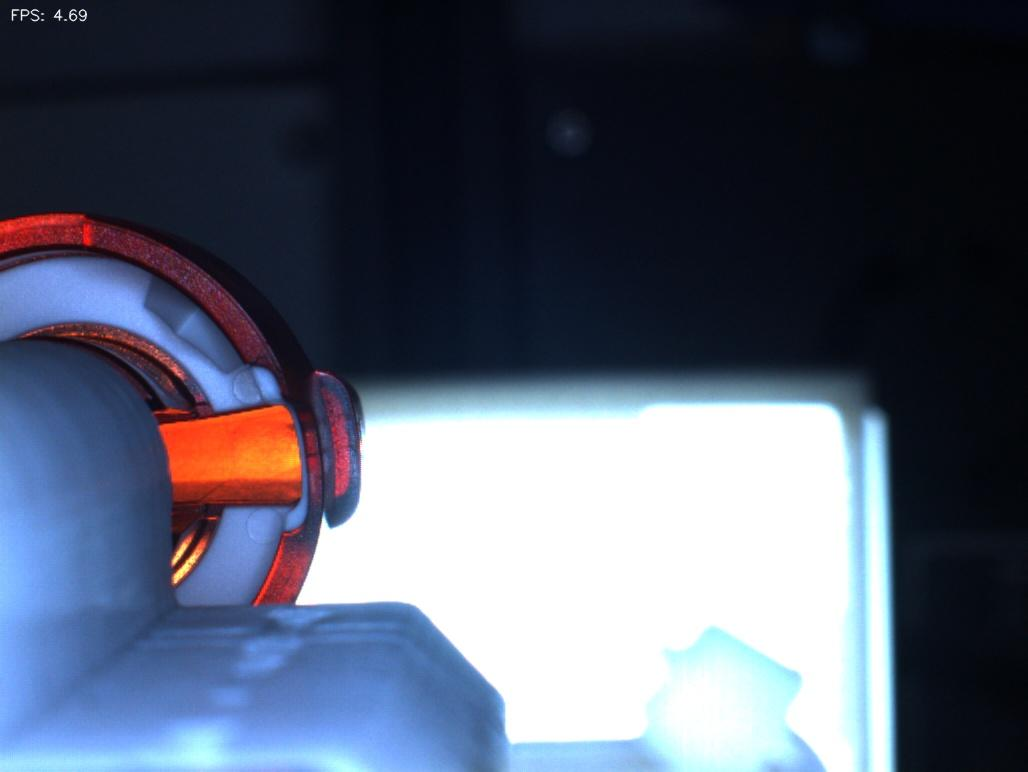Retassure: (217, 407, 308, 488)
